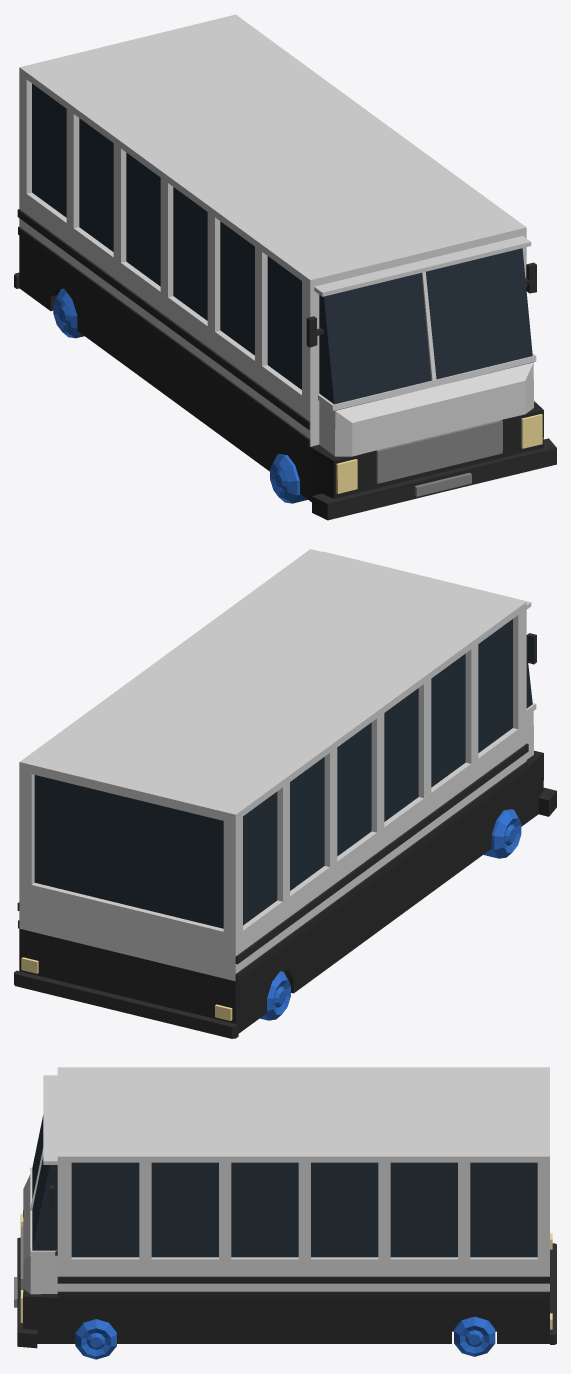
File: qt.bus.glb
3 views of the same model, one above another, from view 1: azimuth 30°, elevation 25°; view 2: azimuth 150°, elevation 25°; view 3: azimuth 270°, elevation 25° (orthographic). The views are drawn at different scales.
Visible parts, largest first — view 1: Bus_Cube.001, FrontWheels_Cylinder.006, BackWheels_Cylinder.007; view 2: Bus_Cube.001, FrontWheels_Cylinder.006, BackWheels_Cylinder.007; view 3: Bus_Cube.001, BackWheels_Cylinder.007, FrontWheels_Cylinder.006.
Part boxes in pixels (bbox=[...]): Bus_Cube.001: bbox=[14, 14, 556, 520]; FrontWheels_Cylinder.006: bbox=[270, 454, 307, 503]; BackWheels_Cylinder.007: bbox=[53, 288, 84, 338]; Bus_Cube.001: bbox=[14, 549, 556, 1038]; FrontWheels_Cylinder.006: bbox=[483, 809, 521, 858]; BackWheels_Cylinder.007: bbox=[260, 971, 290, 1020]; Bus_Cube.001: bbox=[14, 1067, 556, 1348]; BackWheels_Cylinder.007: bbox=[454, 1316, 495, 1356]; FrontWheels_Cylinder.006: bbox=[75, 1319, 116, 1359].
Size of the model in its own units: 5.12 by 4.92 by 12.
